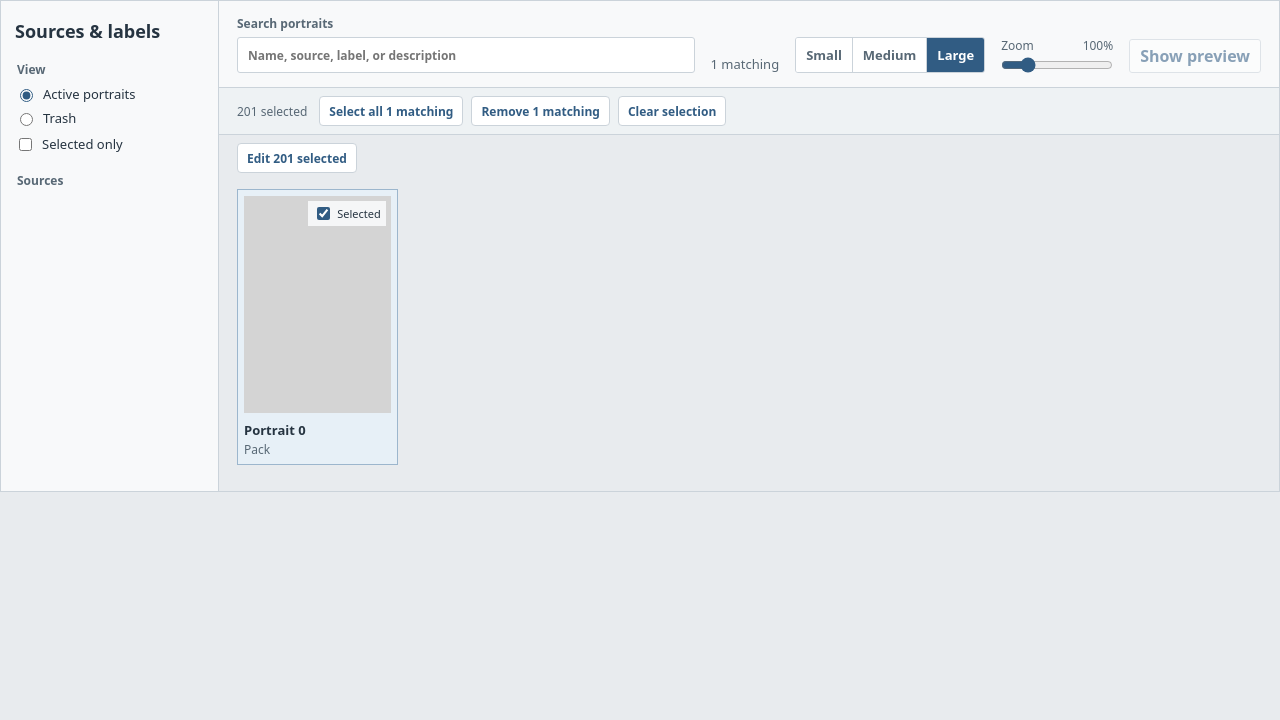
Test: rejects a bulk edit when selected pages drift to a new revision
Click the button "Edit 201 selected" at (297, 158), box [237,143,357,173]
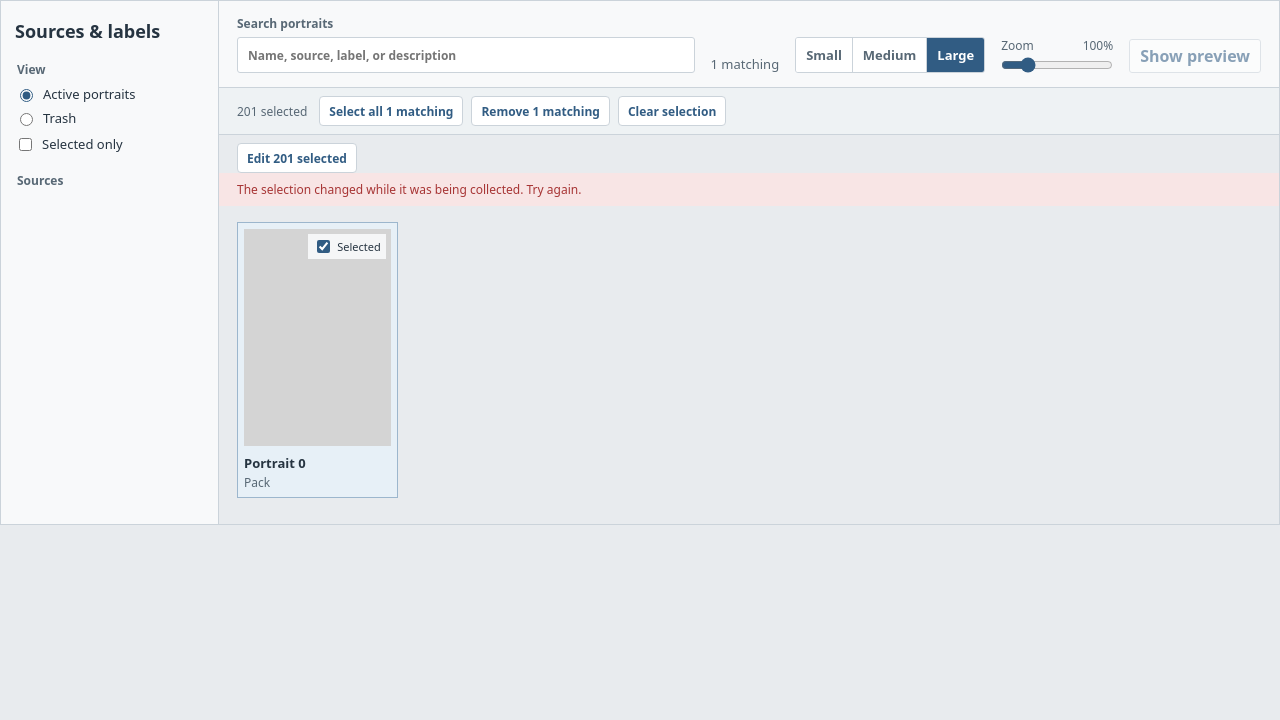
Expected: the message shows "selection changed while it was being collected", [237,181,581,198]
